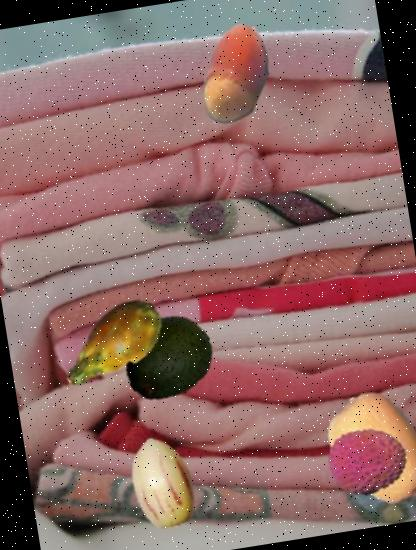Avocado: (114, 304, 220, 410)
Cactus: (48, 281, 177, 410)
Hazelnut: (176, 16, 296, 136)
Kumquats: (314, 383, 416, 515)
Lychee: (322, 415, 414, 507)
Pepino: (110, 430, 216, 536)
